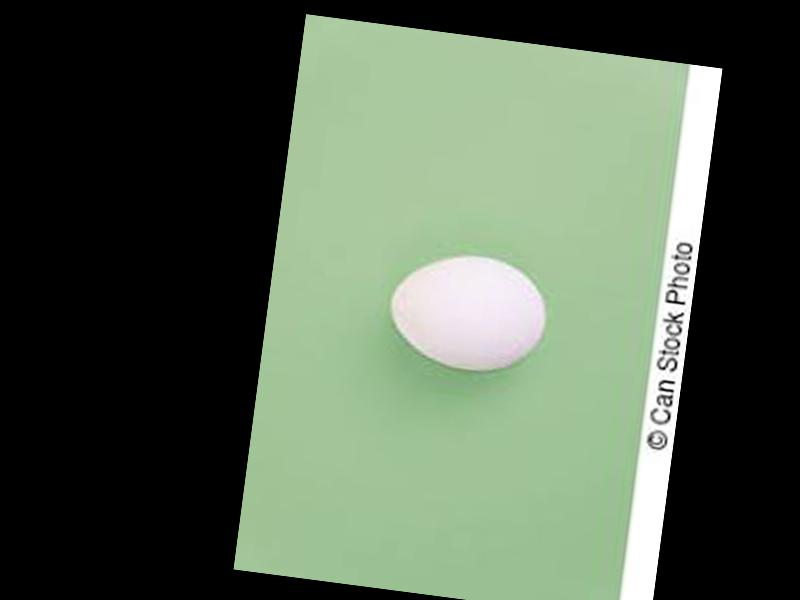Eggs: (384, 248, 551, 378)
